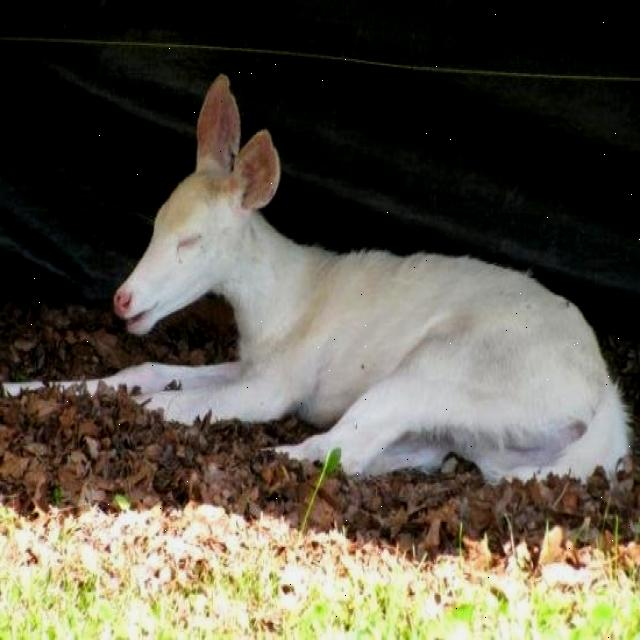deer: (98, 49, 308, 347)
